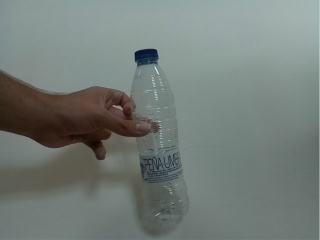botella plastico: (127, 46, 195, 225)
